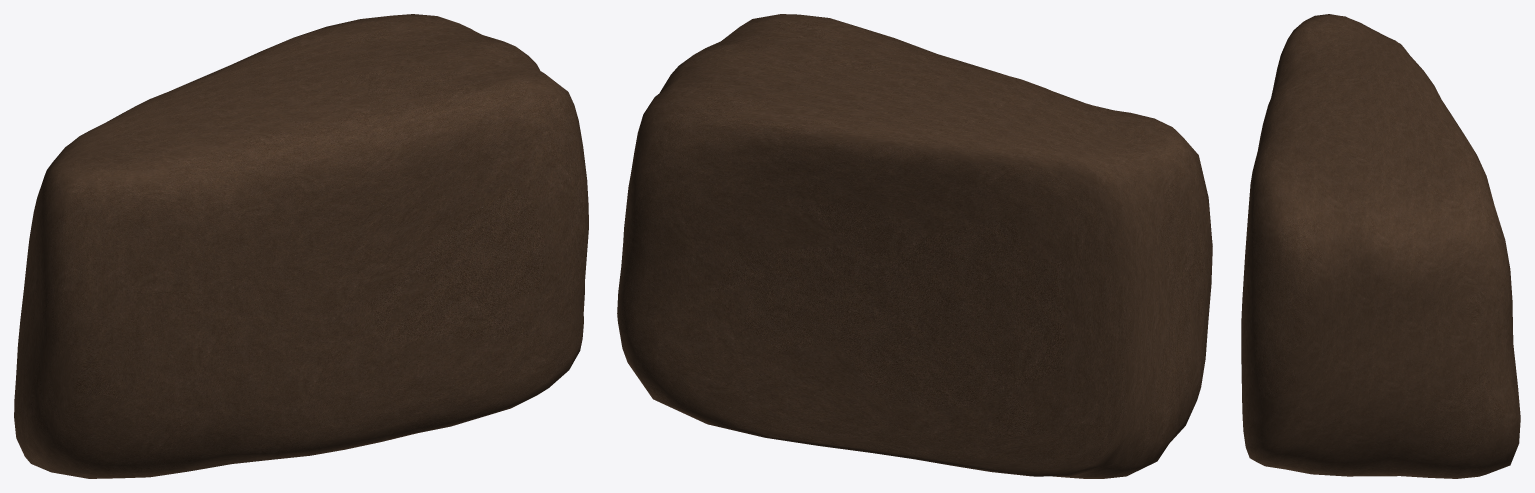
The model's file is Room_G_bellows_air_bag.gltf.
The picture shows the model from 3 angles, left to right: view 1: azimuth 30°, elevation 25°; view 2: azimuth 150°, elevation 25°; view 3: azimuth 270°, elevation 25°; orthographic projection. The views are drawn at different scales.
Parts seen in each view (by area): view 1: Room_G_bellows_air_bag_Icosphere; view 2: Room_G_bellows_air_bag_Icosphere; view 3: Room_G_bellows_air_bag_Icosphere.
Boxes of the visible parts, x1=… form: Room_G_bellows_air_bag_Icosphere: x1=14, y1=14, x2=588, y2=478; Room_G_bellows_air_bag_Icosphere: x1=617, y1=14, x2=1212, y2=478; Room_G_bellows_air_bag_Icosphere: x1=1241, y1=14, x2=1520, y2=478.
Bounding box in the file's own units: 0.599 × 0.3634 × 0.3073.
Materials: 1 (1 with a texture image).
